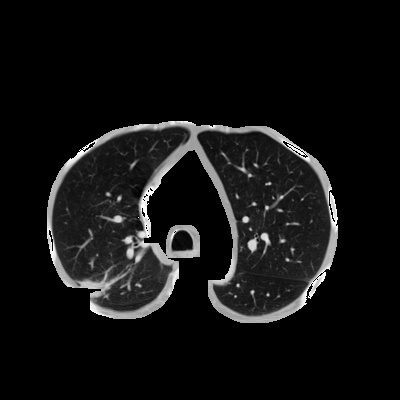PN: (82, 278, 102, 298)
